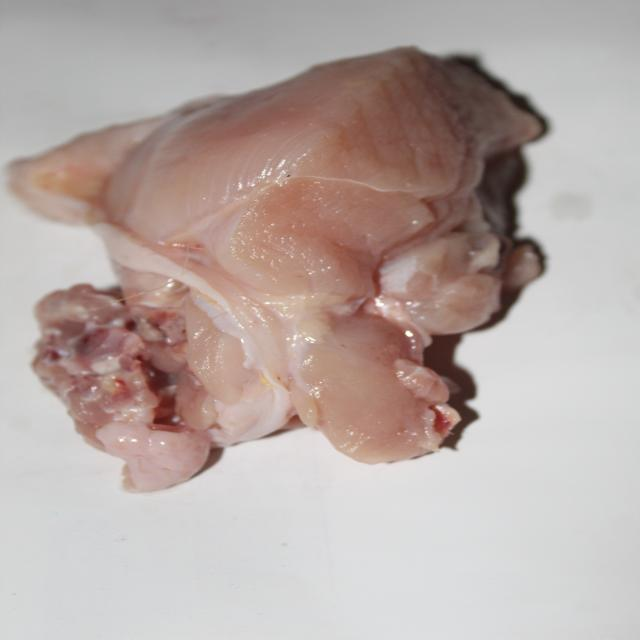chicken: (13, 50, 494, 492)
